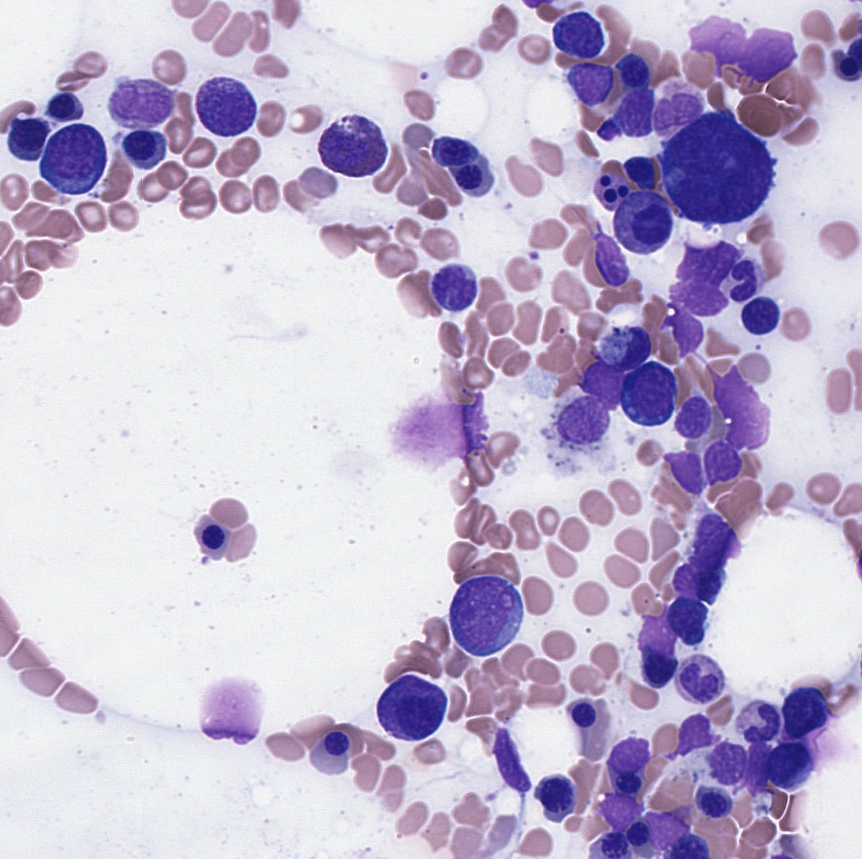objectness: (743, 703, 793, 753), (722, 252, 772, 302), (623, 197, 673, 247), (205, 83, 255, 133), (116, 74, 166, 124), (327, 122, 377, 172), (650, 85, 700, 135), (667, 657, 717, 707), (457, 589, 507, 639), (625, 366, 675, 416), (697, 13, 747, 63), (735, 738, 785, 788), (637, 805, 687, 855), (612, 320, 662, 370), (580, 354, 630, 404), (589, 788, 639, 838), (389, 686, 439, 736), (674, 238, 724, 288), (602, 728, 652, 778), (668, 390, 718, 440), (481, 736, 531, 786), (203, 690, 253, 740), (661, 447, 711, 497), (582, 105, 632, 155), (687, 558, 737, 608), (701, 738, 751, 788), (674, 274, 724, 324), (582, 169, 632, 219), (718, 387, 768, 437), (658, 305, 708, 355), (616, 145, 666, 195), (746, 29, 796, 79), (690, 508, 740, 558), (667, 708, 717, 758), (556, 392, 606, 442), (666, 554, 716, 604), (634, 606, 684, 656), (700, 436, 750, 486), (584, 234, 634, 284), (429, 260, 479, 310), (734, 288, 784, 338), (567, 53, 617, 103), (613, 86, 663, 136), (631, 642, 681, 692), (50, 127, 100, 177), (605, 759, 655, 809), (188, 513, 238, 563), (610, 45, 660, 95), (3, 108, 53, 158), (688, 778, 738, 828), (115, 118, 165, 168), (430, 128, 480, 178), (37, 81, 87, 131), (663, 593, 713, 643), (613, 809, 663, 859), (311, 717, 361, 767), (530, 770, 580, 820), (559, 688, 609, 738), (444, 152, 494, 202), (554, 9, 604, 59), (707, 157, 757, 207), (589, 820, 639, 859), (664, 824, 714, 859), (832, 21, 862, 71)
